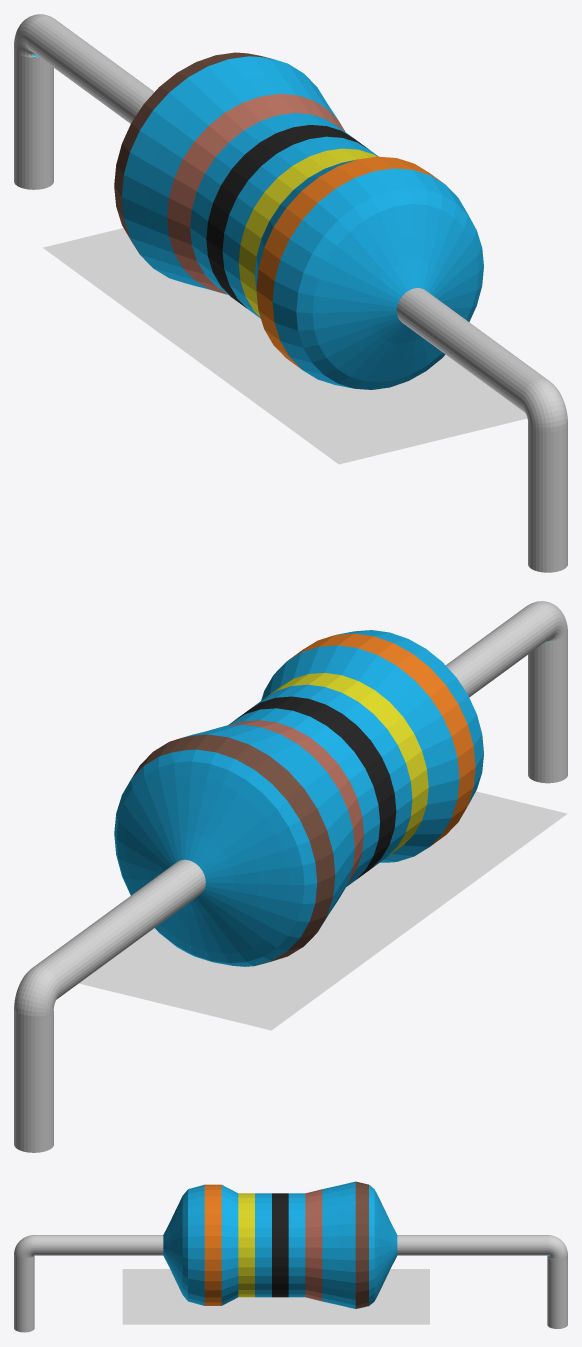
The model's file is R4_blue_2.gltf.
3 renders of one model, top to bottom at view 1: azimuth 30°, elevation 25°; view 2: azimuth 150°, elevation 25°; view 3: azimuth 270°, elevation 25°, orthographic. The views are drawn at different scales.
Visible parts, largest first — view 1: R4_blue_2, R4_blue_2_plane; view 2: R4_blue_2, R4_blue_2_plane; view 3: R4_blue_2, R4_blue_2_plane.
Part boxes in pixels (x1,y1,x2,y2): R4_blue_2: [14, 14, 567, 572]; R4_blue_2_plane: [43, 228, 527, 464]; R4_blue_2: [14, 601, 567, 1152]; R4_blue_2_plane: [79, 791, 567, 1030]; R4_blue_2: [14, 1181, 567, 1332]; R4_blue_2_plane: [122, 1269, 429, 1324].
Bounding box in the file's own units: 0.0162 × 0.0189 × 0.0676.
